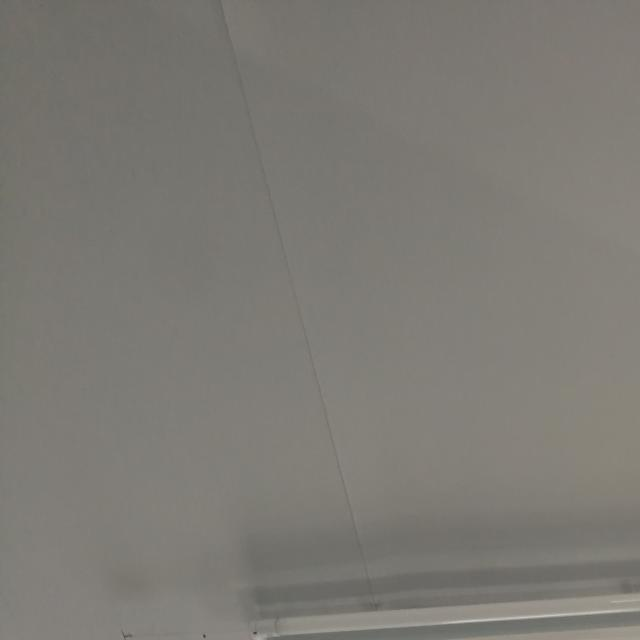fluorescent tube: (243, 548, 640, 639)
